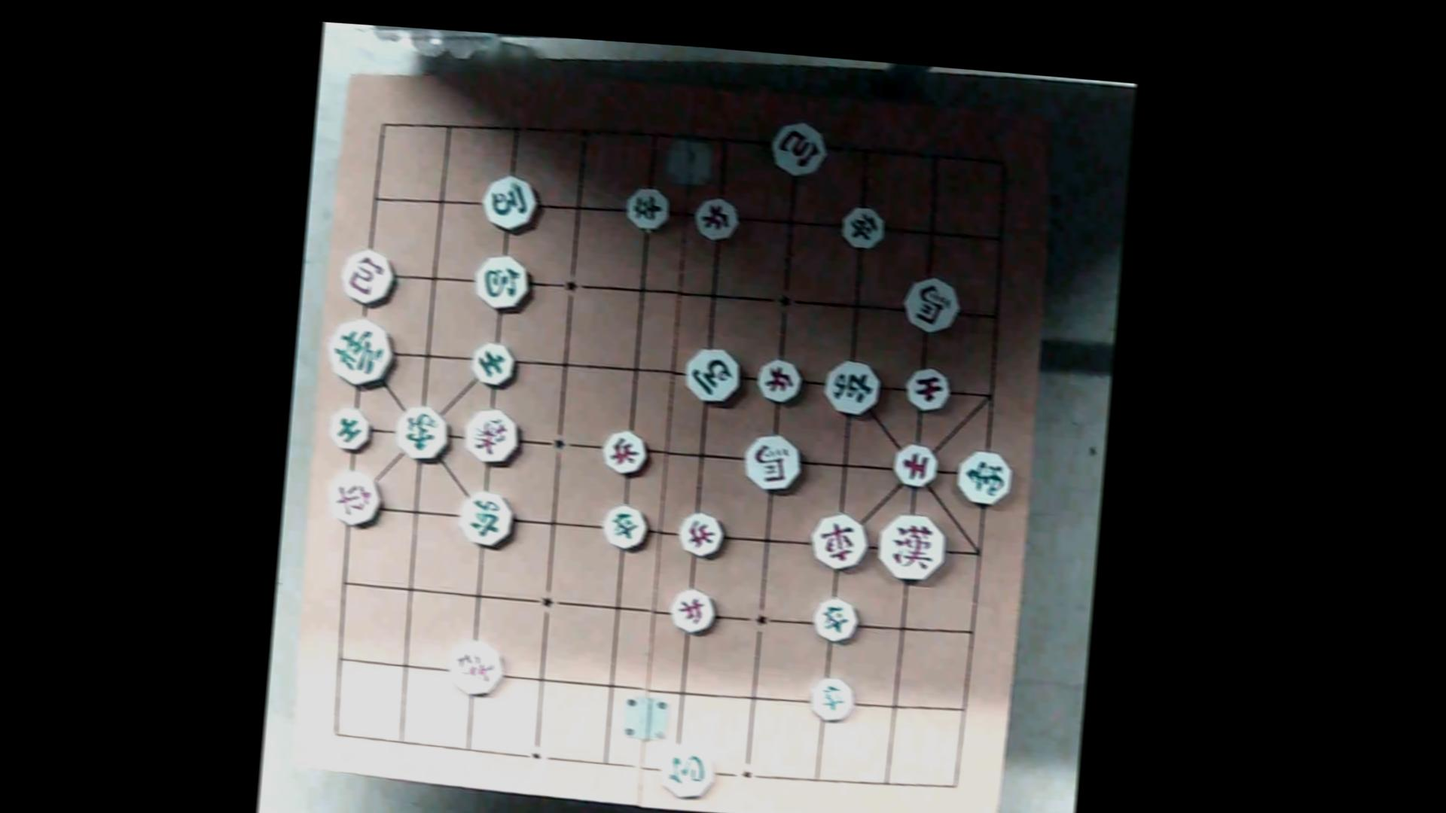cha_green: (823, 356, 879, 418), (459, 489, 511, 550)
cha_red: (325, 465, 383, 528), (813, 512, 866, 573)
jol_green: (810, 595, 857, 641), (808, 675, 855, 721), (839, 202, 883, 251), (627, 181, 670, 231), (601, 504, 645, 547)
jol_red: (690, 195, 740, 243), (670, 583, 715, 636), (755, 355, 804, 403), (678, 507, 723, 558), (599, 429, 649, 473)
ma_green: (685, 342, 741, 407), (482, 171, 536, 236)
ma_red: (901, 270, 962, 334), (744, 434, 801, 495)
po_green: (657, 738, 717, 799), (474, 250, 529, 314)
po_red: (337, 247, 395, 301), (770, 122, 826, 177)
sa_green: (471, 336, 515, 389), (325, 406, 371, 450)
sa_red: (889, 441, 936, 489), (903, 365, 950, 412)
sang_green: (393, 400, 451, 462), (956, 448, 1011, 504)
sang_red: (442, 635, 503, 698), (465, 403, 520, 461)
wang_green: (327, 312, 393, 388)
wang_red: (875, 510, 948, 580)
